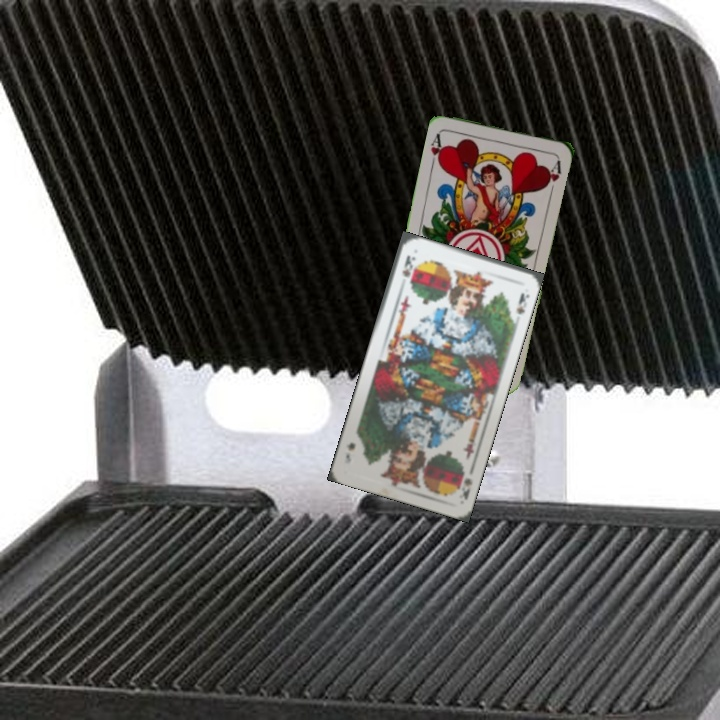HA: (427, 129, 447, 169)
SK: (398, 251, 418, 280), (459, 474, 475, 502)
